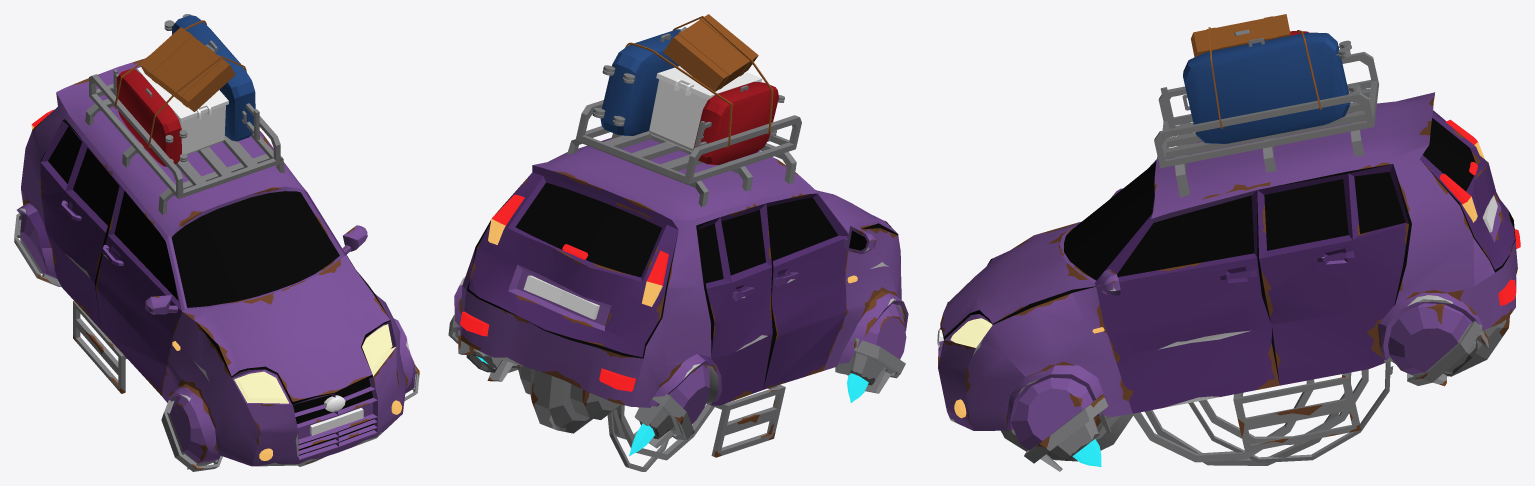
The picture shows the model from 3 angles, left to right: view 1: azimuth 30°, elevation 25°; view 2: azimuth 150°, elevation 25°; view 3: azimuth 270°, elevation 25°; orthographic projection. The views are drawn at different scales.
Visible parts, largest first — view 1: car, nozzle_front_right, nozzle_rear_right; view 2: car, nozzle_front_right, nozzle_rear_right, nozzle_rear_left, cable.003, cable; view 3: car, nozzle_front_left, nozzle_rear_left, cable.002, cable, cable.001, cable.003.
Boxes of the visible parts, x1,y1,x2,y2 form: car: [17, 14, 412, 466]; nozzle_front_right: [161, 396, 222, 471]; nozzle_rear_right: [14, 213, 61, 286]; car: [454, 14, 908, 457]; nozzle_front_right: [835, 303, 906, 393]; nozzle_rear_right: [634, 364, 709, 448]; nozzle_rear_left: [448, 315, 518, 381]; cable.003: [616, 404, 714, 460]; cable: [607, 412, 669, 471]; car: [937, 14, 1520, 461]; nozzle_front_left: [1010, 377, 1111, 471]; nozzle_rear_left: [1388, 303, 1488, 386]; cable.002: [1132, 379, 1314, 462]; cable: [1188, 362, 1390, 462]; cable.001: [1199, 369, 1368, 444]; cable.003: [1145, 378, 1350, 465].
Bounding box in the file's own units: 2.07 × 3.09 × 3.7.
